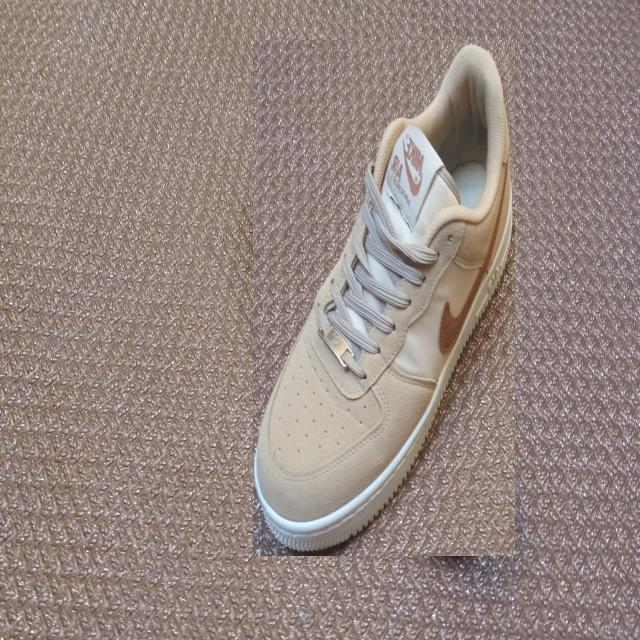shoes: (253, 40, 515, 556)
